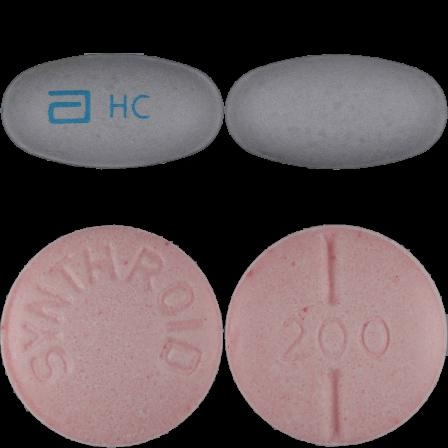0074-7126: (0, 0, 224, 224)
